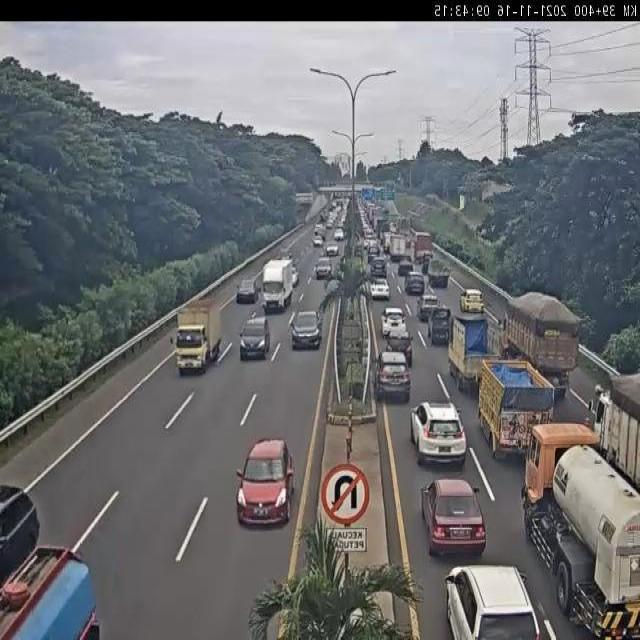Car: (445, 566, 543, 638), (236, 437, 296, 528), (420, 479, 486, 558), (410, 400, 468, 467), (374, 352, 412, 402), (239, 314, 272, 360), (290, 309, 322, 351), (382, 332, 412, 368), (428, 306, 452, 346), (381, 306, 407, 338), (460, 288, 484, 314), (417, 294, 440, 321), (237, 278, 260, 304), (405, 271, 425, 296), (369, 279, 390, 301), (315, 259, 332, 279), (368, 245, 383, 265), (333, 228, 345, 242)
Truck: (521, 424, 640, 640), (502, 292, 586, 398), (479, 359, 557, 461), (587, 369, 640, 497), (448, 312, 498, 393), (174, 298, 222, 377), (262, 258, 296, 314), (387, 233, 409, 263), (414, 231, 434, 264), (428, 258, 450, 288)
